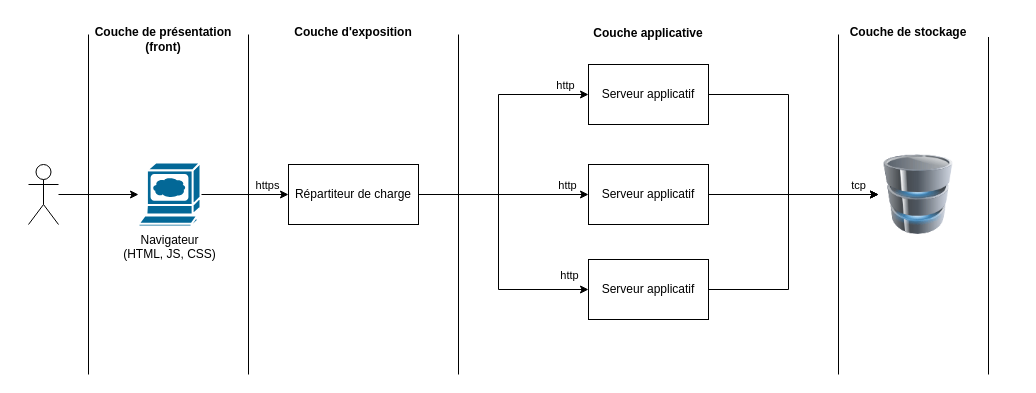
Some shapes in this 1036 by 393 pixel diagram are drawn without their labels. Here are the shapes that lost their labels. From the top down, the box of each, then its label:
(28, 164, 58, 224): Utilisateur
(878, 154, 958, 234): Base de données
